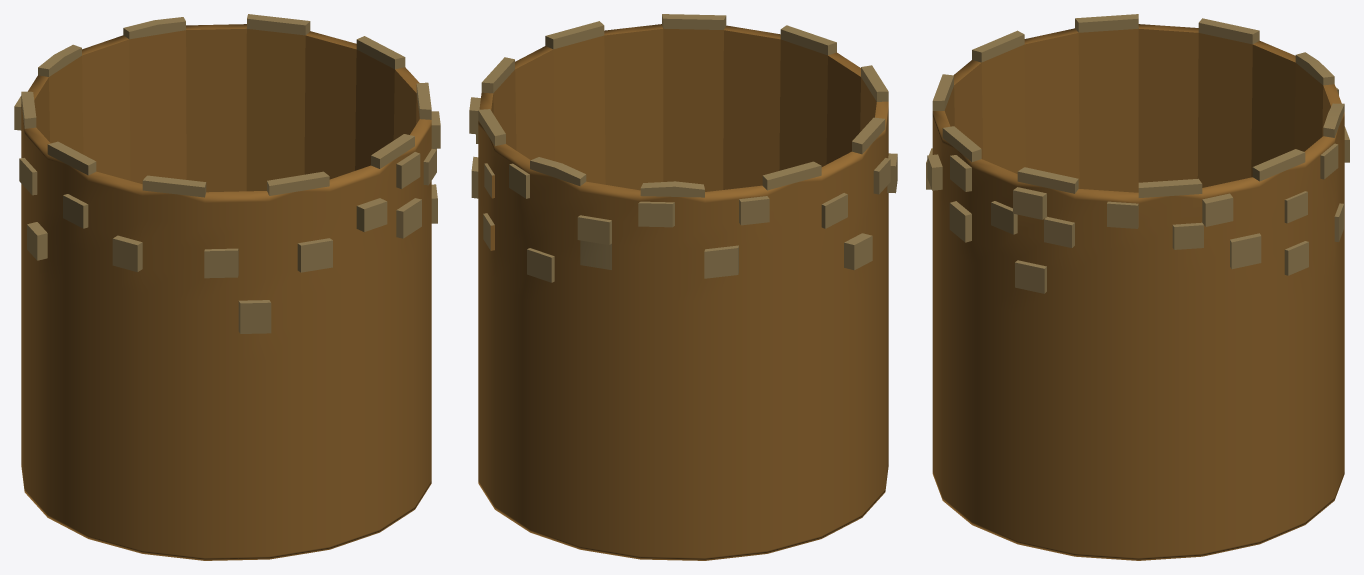
The model's file is outerwall.fbx.
3 views of the same model, side by side, from view 1: azimuth 30°, elevation 25°; view 2: azimuth 150°, elevation 25°; view 3: azimuth 270°, elevation 25° (orthographic).
Parts seen in each view (by area): view 1: pCylinder2; view 2: pCylinder2; view 3: pCylinder2.
Boxes of the visible parts, x1=… form: pCylinder2: x1=14, y1=14, x2=440, y2=560; pCylinder2: x1=469, y1=14, x2=897, y2=560; pCylinder2: x1=926, y1=14, x2=1349, y2=560.
Bounding box in the file's own units: 2.08 × 2 × 2.06.
